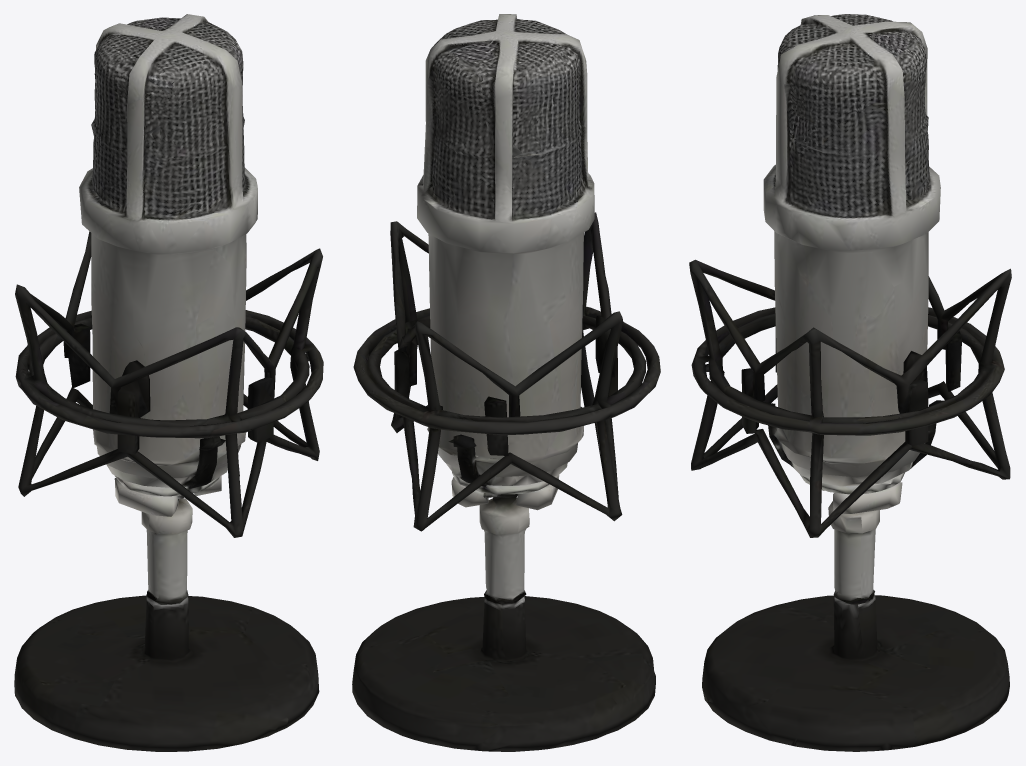
File: microphone-v2.glb
The picture shows the model from 3 angles, left to right: view 1: azimuth 30°, elevation 25°; view 2: azimuth 150°, elevation 25°; view 3: azimuth 270°, elevation 25°; orthographic projection.
Visible parts, largest first — view 1: prop__microphone; view 2: prop__microphone; view 3: prop__microphone.
Boxes of the visible parts, x1,y1,x2,y2 form: prop__microphone: (14,14,323,751); prop__microphone: (352,14,660,751); prop__microphone: (689,14,1011,751).
Bounding box in the file's own units: 0.154 × 0.36 × 0.1604.
1 material, 1 textured.
